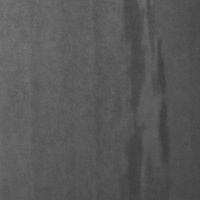inclusion: (117, 1, 173, 200)
